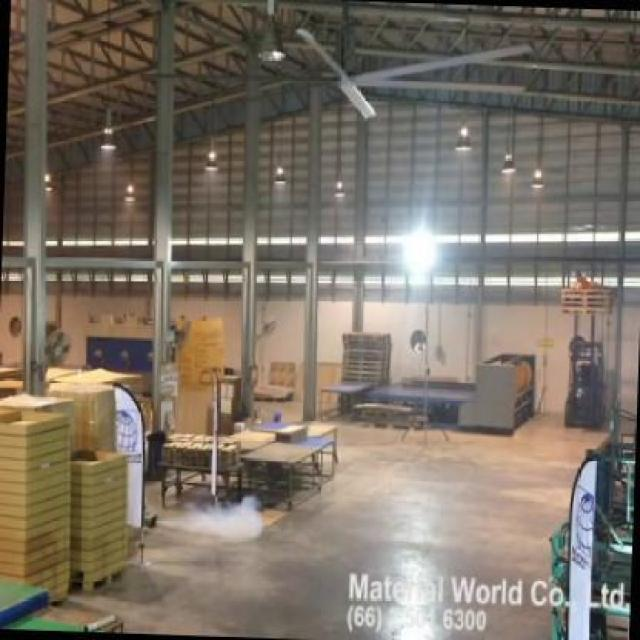fire: (173, 489, 267, 546)
